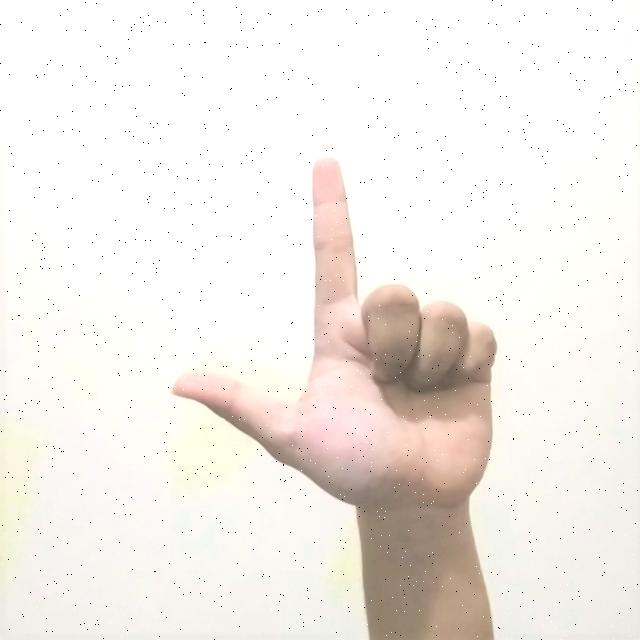L: (162, 150, 504, 524)
